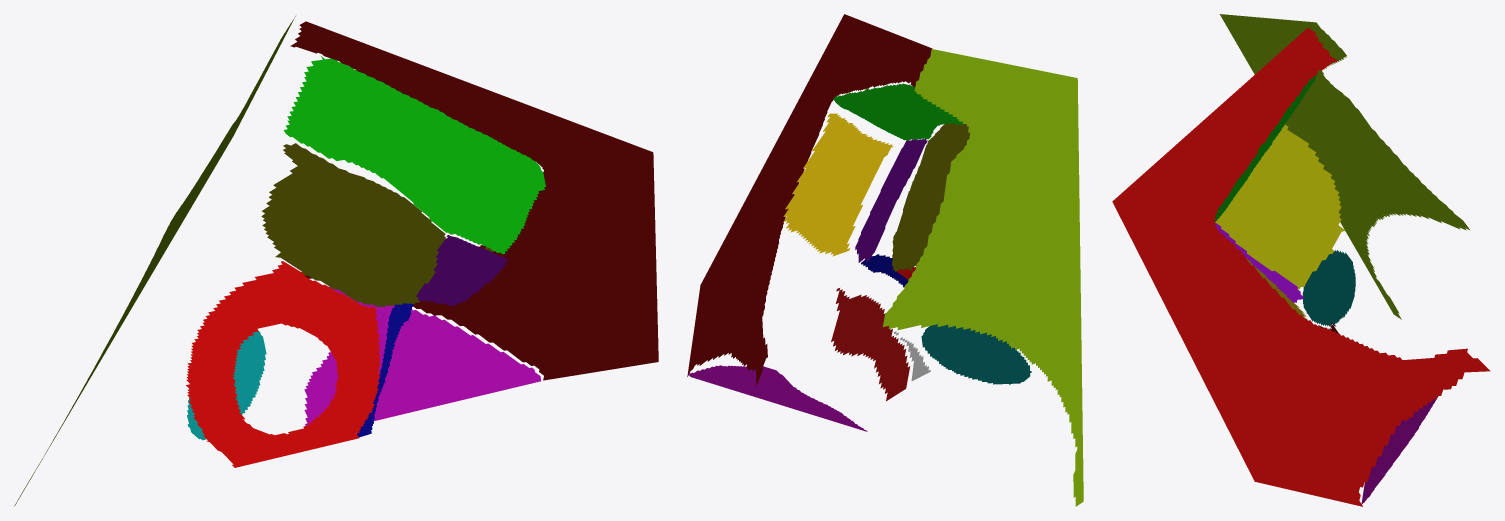
The model's file is 250_seg_predplane.glb.
3 renders of one model, left to right at view 1: azimuth 30°, elevation 25°; view 2: azimuth 150°, elevation 25°; view 3: azimuth 270°, elevation 25°, orthographic. The views are drawn at different scales.
Size of the model in its own units: 1.45 by 1.17 by 1.03.
